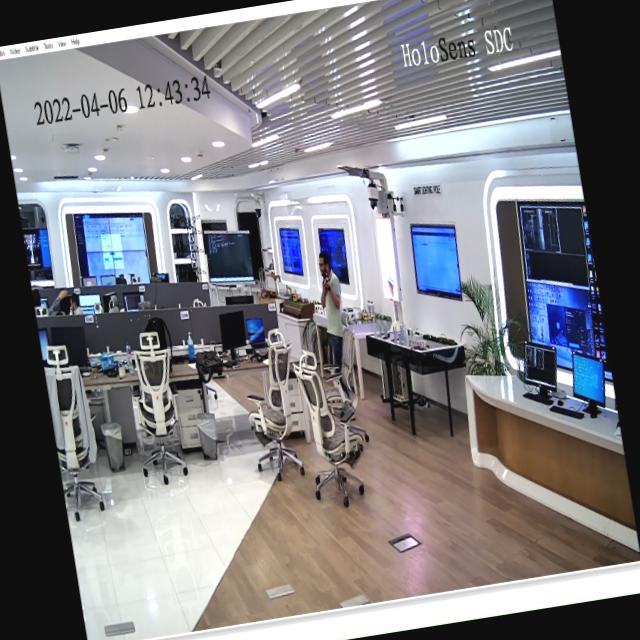long weapon: (318, 259, 335, 294)
